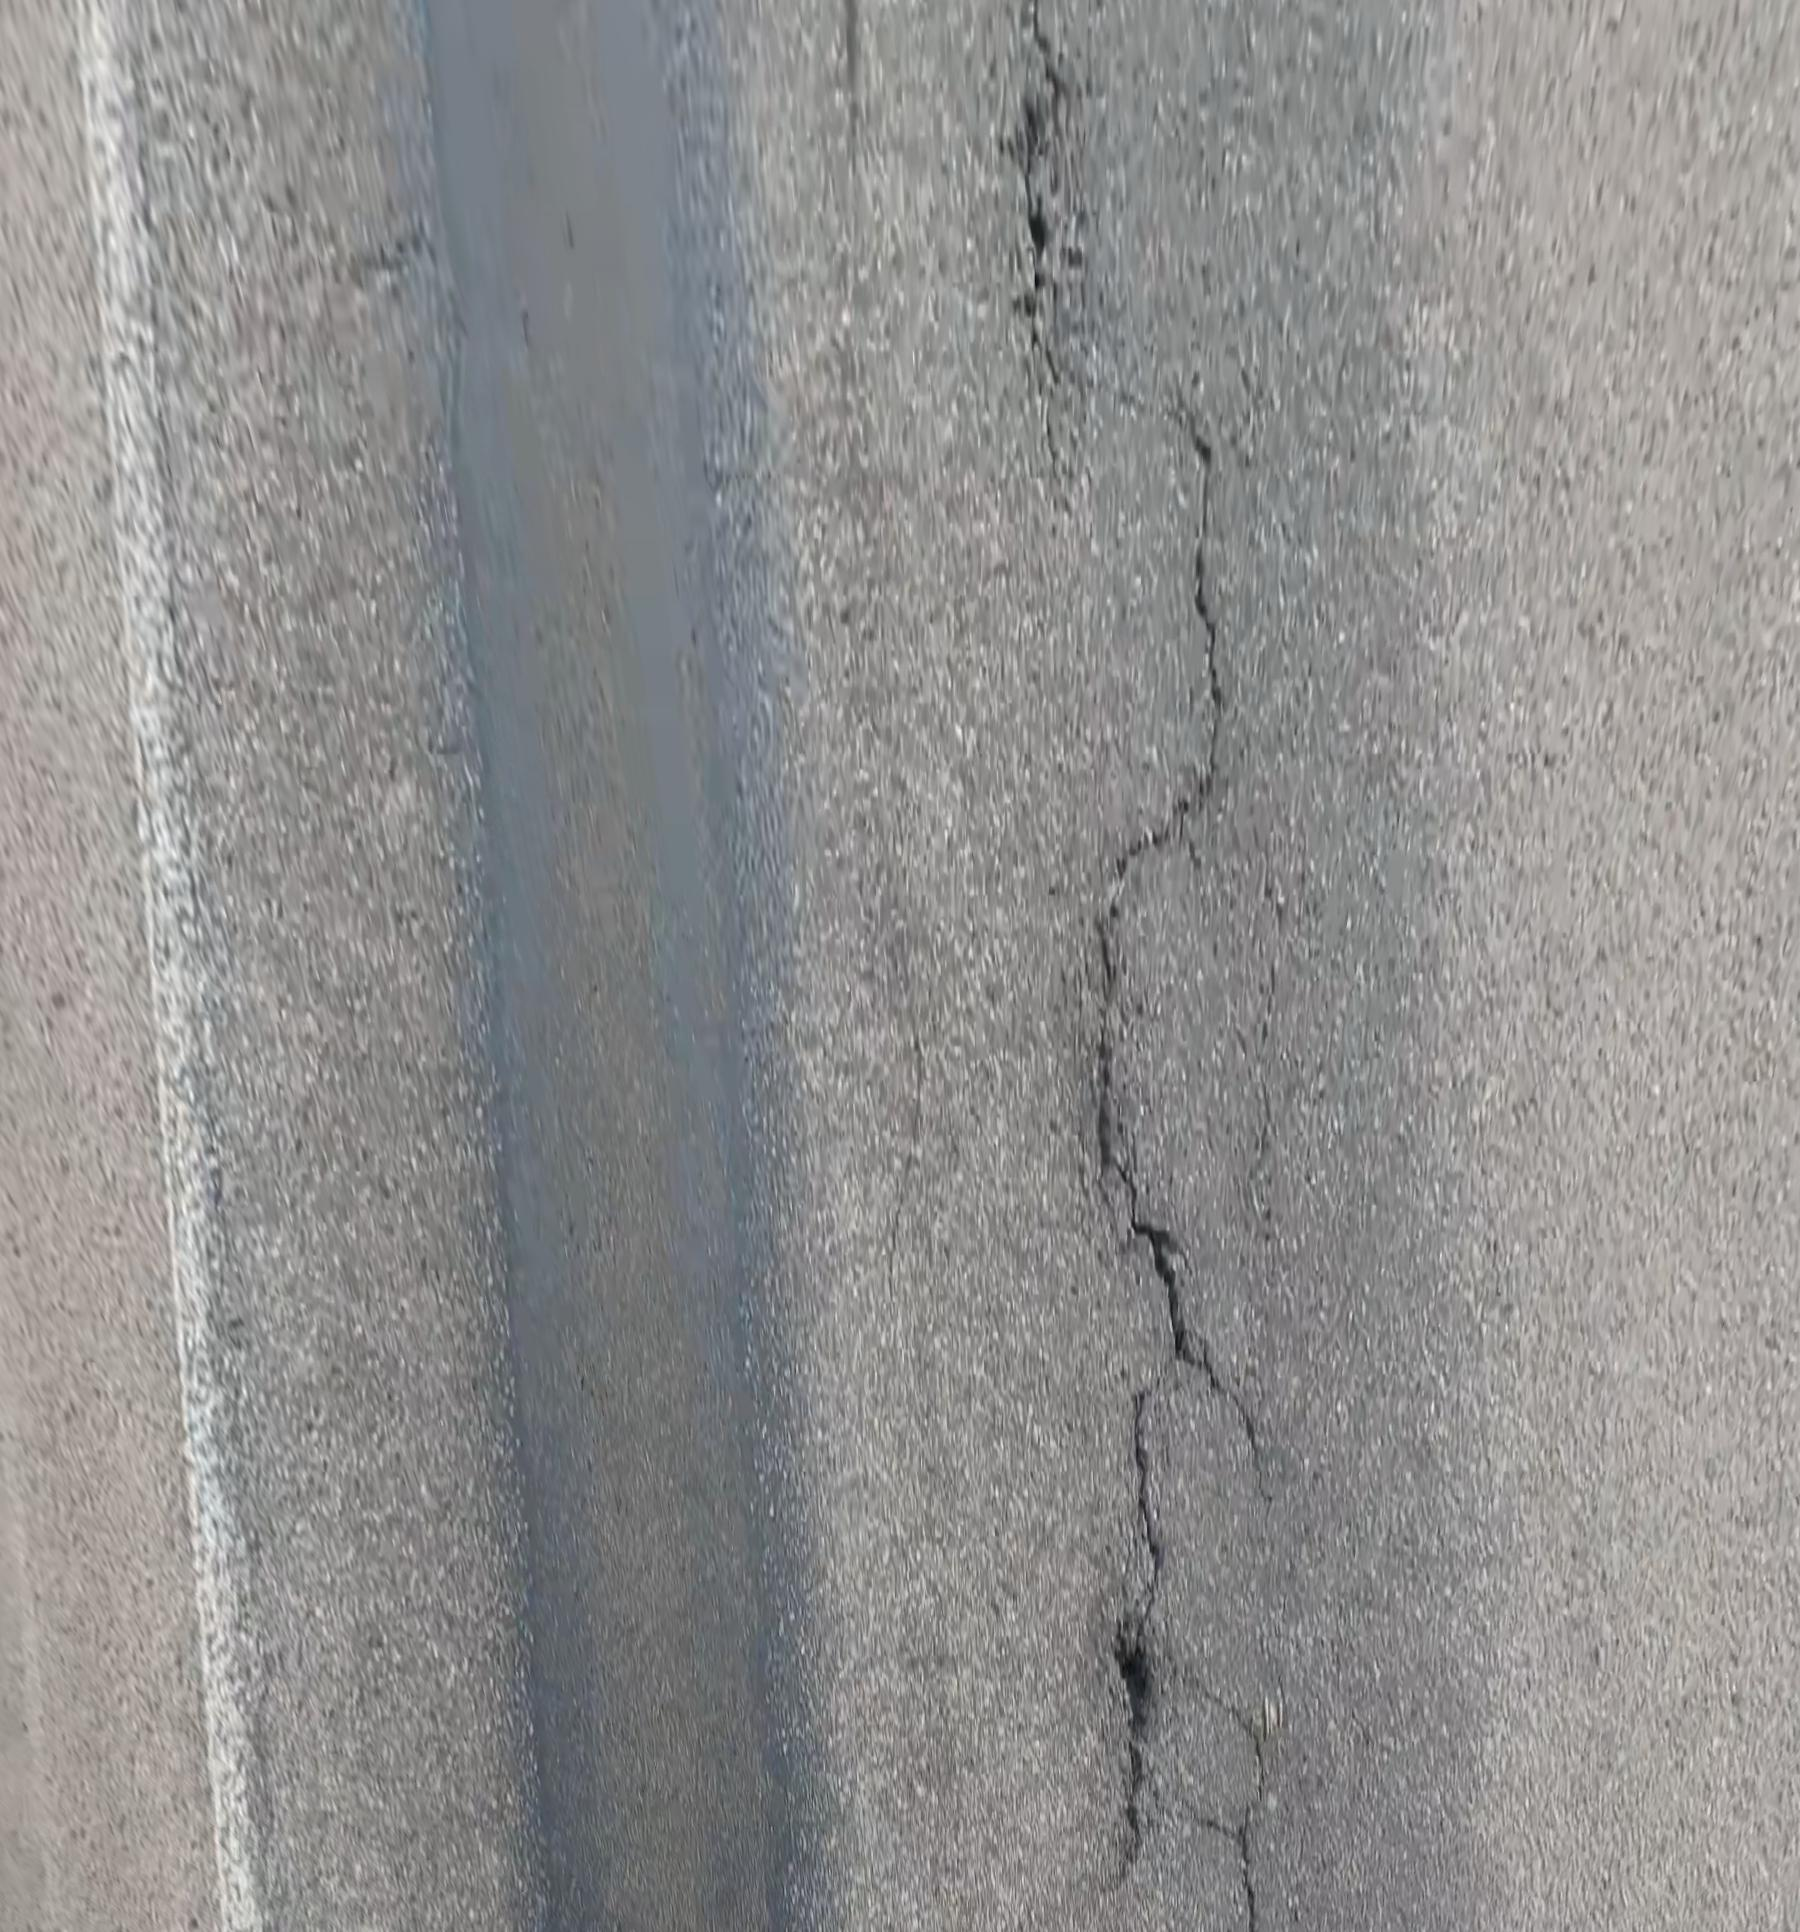pothole_patch_good: (418, 0, 782, 1932)
